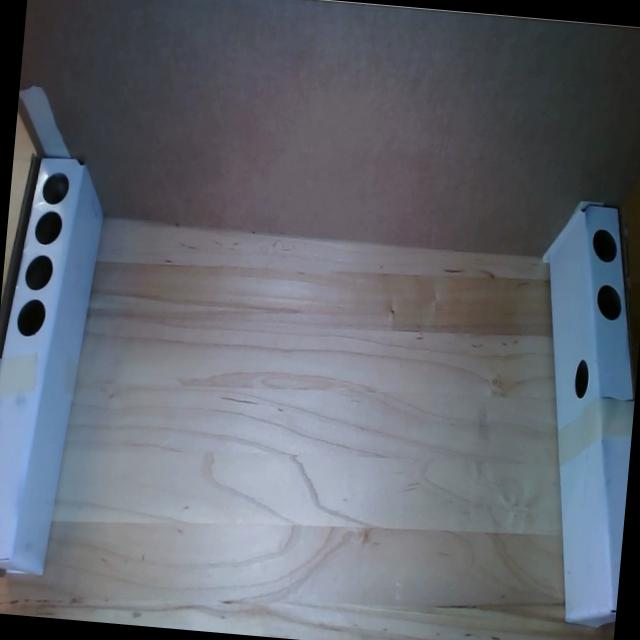Hole: (16, 298, 46, 338), (24, 252, 54, 292), (34, 209, 62, 246), (41, 171, 69, 206), (595, 284, 622, 320), (590, 228, 618, 262), (574, 359, 590, 399)
